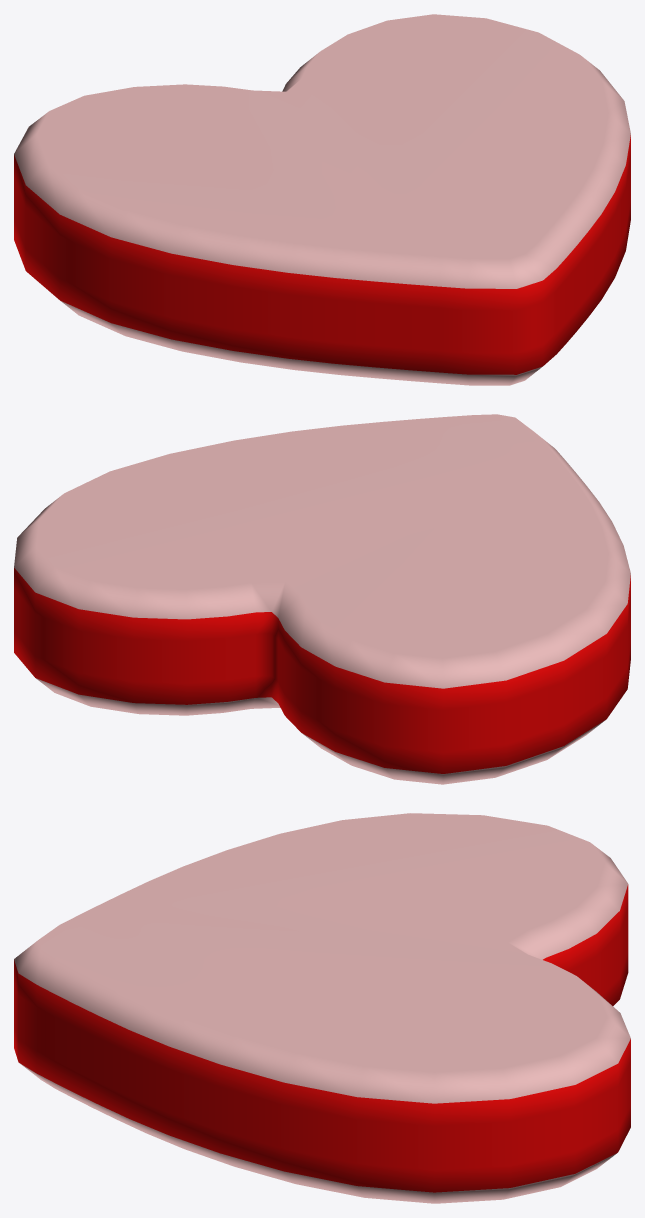
Rendered from fruit_heart.fbx.
The picture shows the model from 3 angles, top to bottom: view 1: azimuth 30°, elevation 25°; view 2: azimuth 150°, elevation 25°; view 3: azimuth 270°, elevation 25°; orthographic projection. The views are drawn at different scales.
Visible parts, largest first — view 1: fruit_heart; view 2: fruit_heart; view 3: fruit_heart.
Part boxes in pixels (x1,y1,x2,y2): fruit_heart: (14, 14, 630, 385); fruit_heart: (14, 414, 630, 784); fruit_heart: (14, 813, 630, 1203).
Size of the model in its own units: 4.56 by 1 by 4.25.
